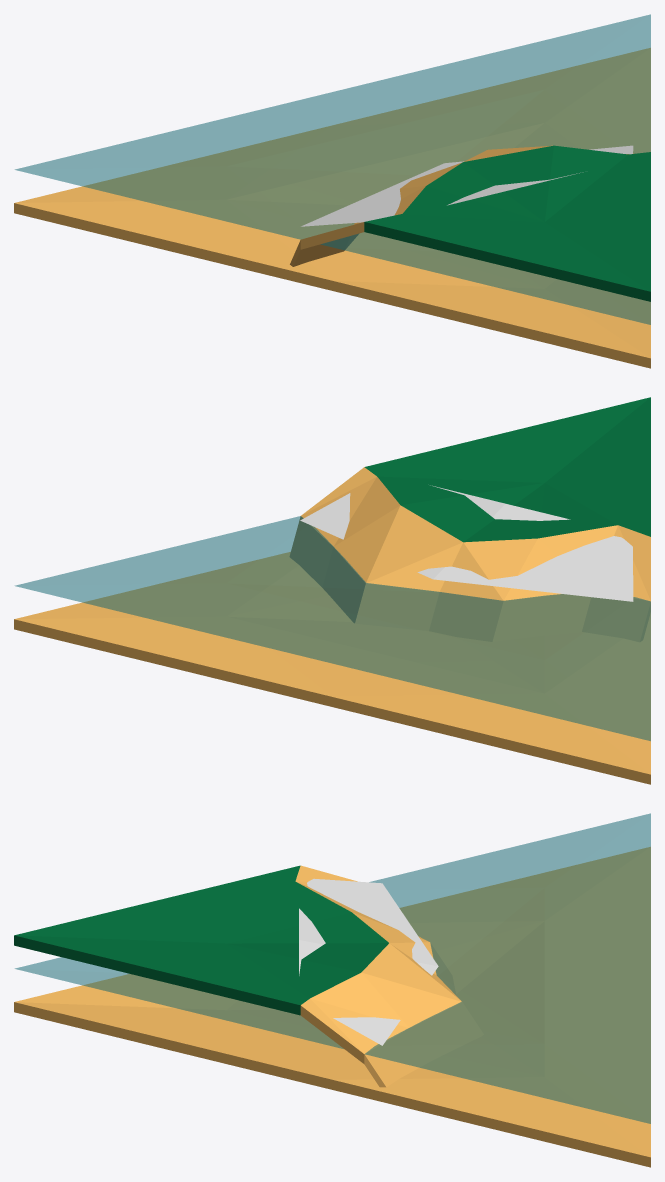
File: tile7.glb
3 views of the same model, one above another, from view 1: azimuth 30°, elevation 25°; view 2: azimuth 150°, elevation 25°; view 3: azimuth 270°, elevation 25° (orthographic).
Visible parts, largest first — view 1: sand7.001, water4.004, ground.021, grass7.001; view 2: sand7.001, water4.004, ground.021, grass7.001; view 3: sand7.001, water4.004, ground.021, grass7.001.
Part boxes in pixels (x1,y1,x2,y2): sand7.001: (14,48,650,368); water4.004: (15,14,650,324); ground.021: (290,145,650,301); grass7.001: (301,145,633,226); sand7.001: (14,552,650,784); water4.004: (15,516,650,740); ground.021: (289,397,650,642); grass7.001: (300,485,633,601); sand7.001: (14,847,650,1167); water4.004: (15,813,650,1123); ground.021: (14,865,483,1087); grass7.001: (299,878,438,1045).
Size of the model in its own units: 1 by 0.1195 by 0.866.
